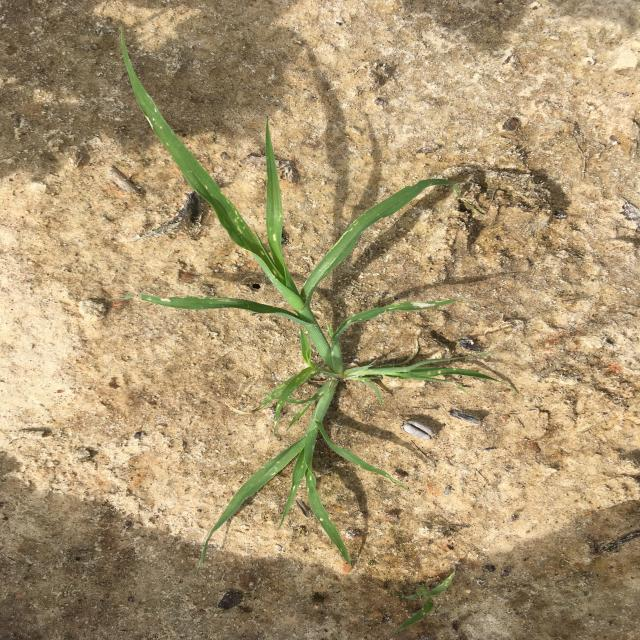Goosegrass: (119, 28, 519, 565)
